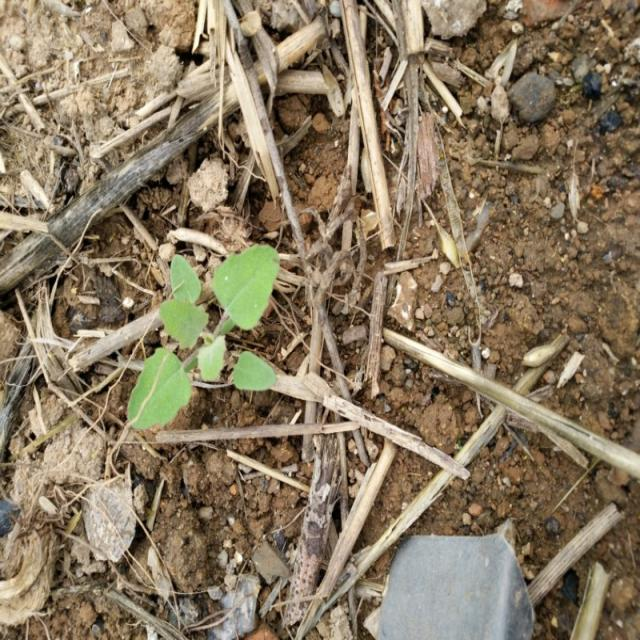ca: (128, 243, 276, 431)
